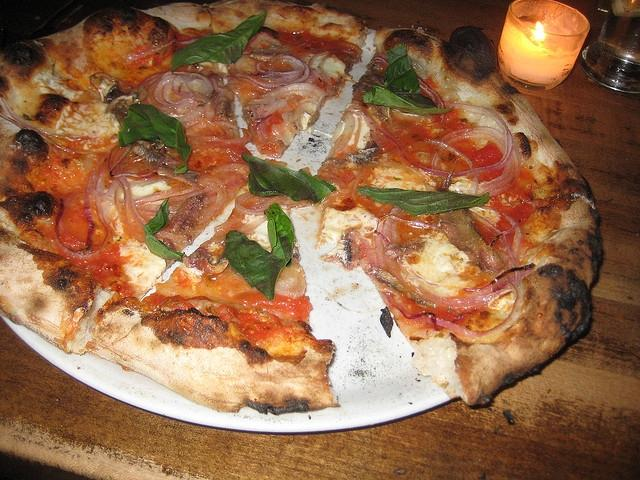onion: (418, 103, 509, 176), (436, 279, 520, 338), (433, 133, 512, 188), (469, 210, 522, 286), (463, 263, 535, 295), (478, 154, 516, 194), (90, 157, 114, 204), (122, 176, 144, 226), (168, 186, 212, 204), (252, 99, 287, 119), (162, 82, 192, 104), (264, 60, 305, 76), (136, 204, 178, 212), (248, 96, 276, 104)
